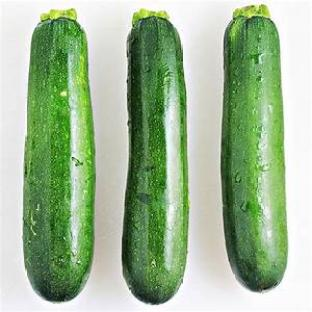Zucchini: (23, 10, 94, 301), (122, 10, 188, 303), (222, 6, 287, 291)
